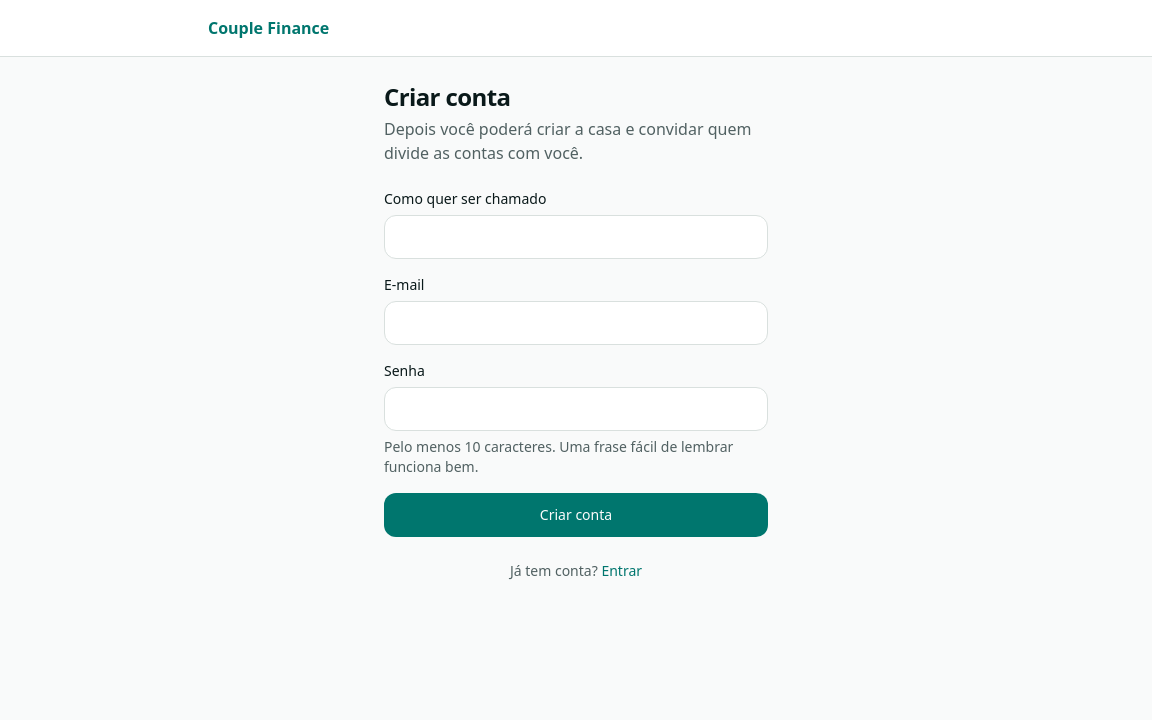
Test: authentication flow › maps registration conflicts and weak passwords to the right fields
The width and height of the screenshot is (1152, 720).
Type "Alex" into the field labelled "Como quer ser chamado" at (576, 237), box [384,215,768,259]
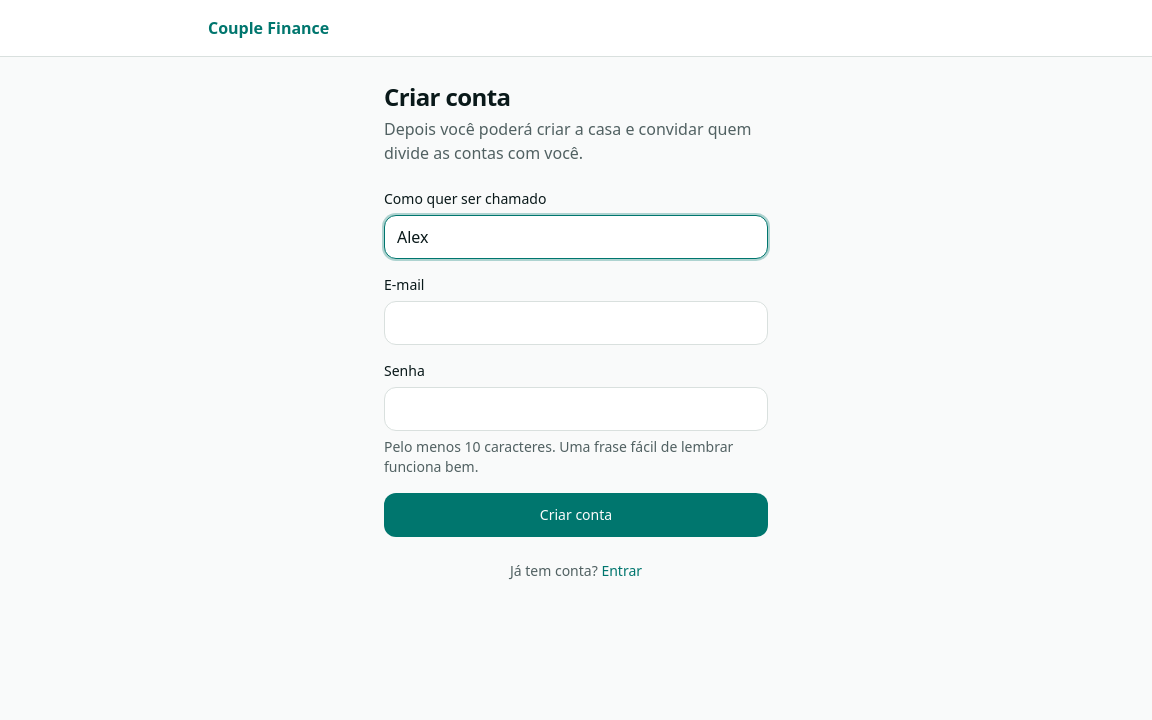
Type "alex@example.com" into the field labelled "E-mail" at (576, 323), box [384,301,768,345]
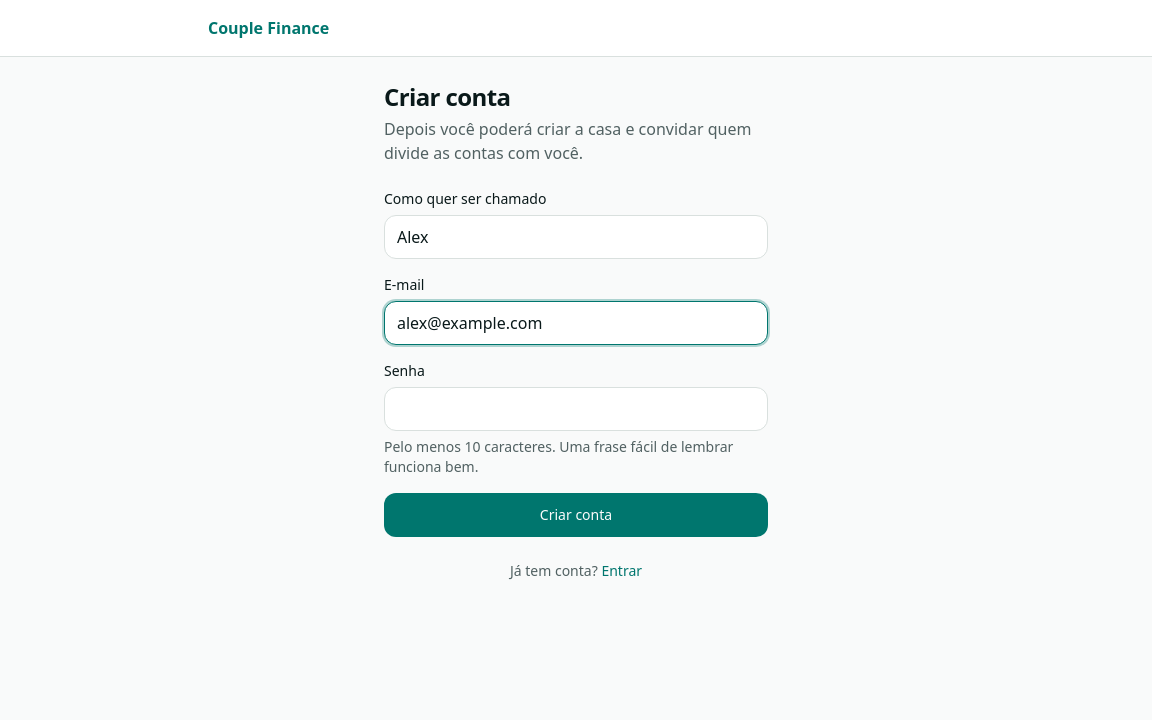
Type "Senha12345" into the password field labelled "Senha" at (576, 409), box [384,387,768,431]
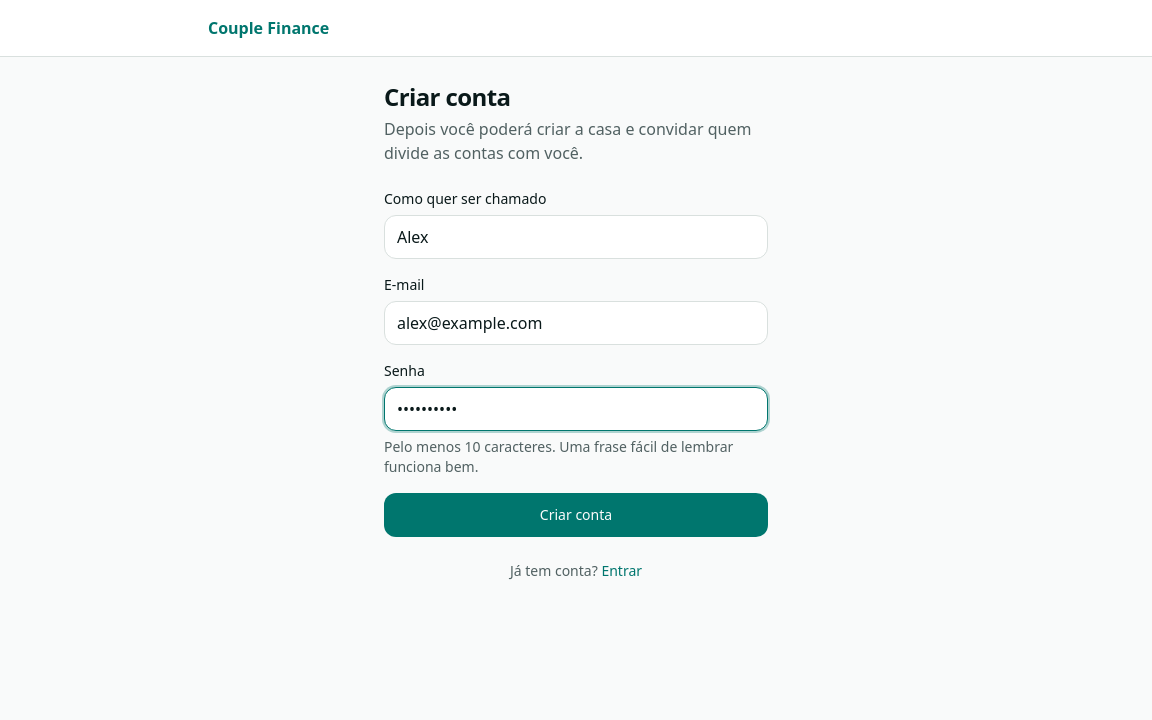
Click the button "Criar conta" at (576, 515), box [384,493,768,537]
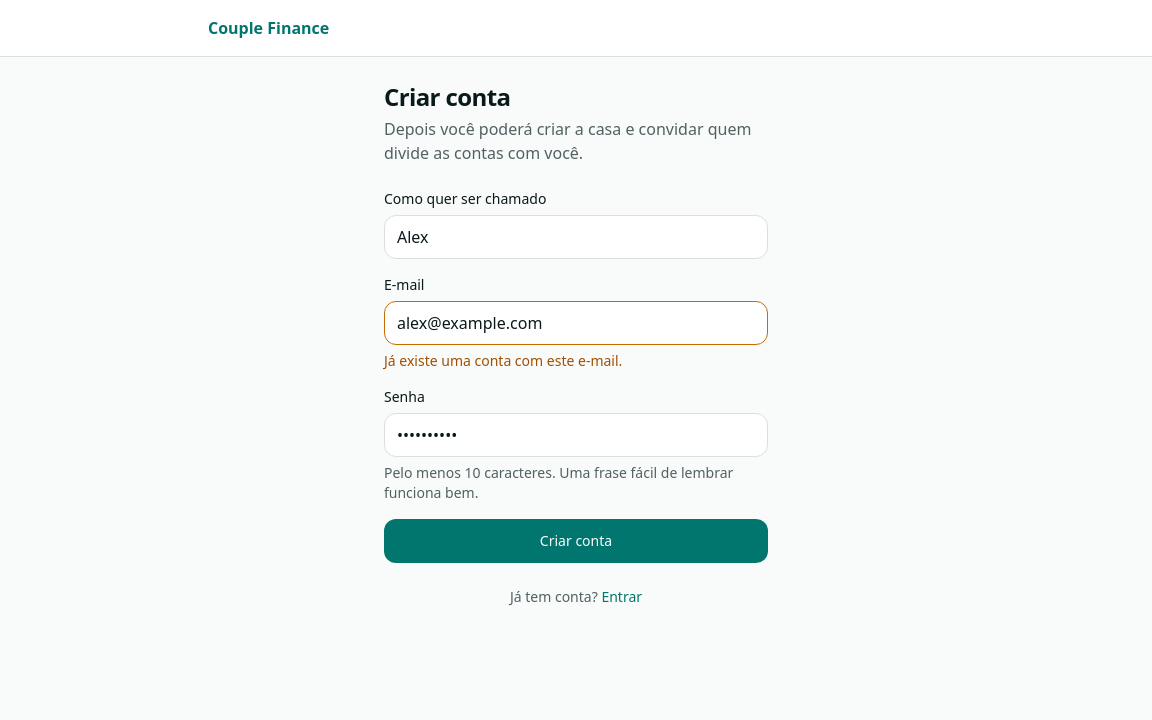
Check: the text "Já existe uma conta com este e-mail." is shown, box [384,351,622,370]
Click the button "Criar conta" at (576, 541), box [384,519,768,563]
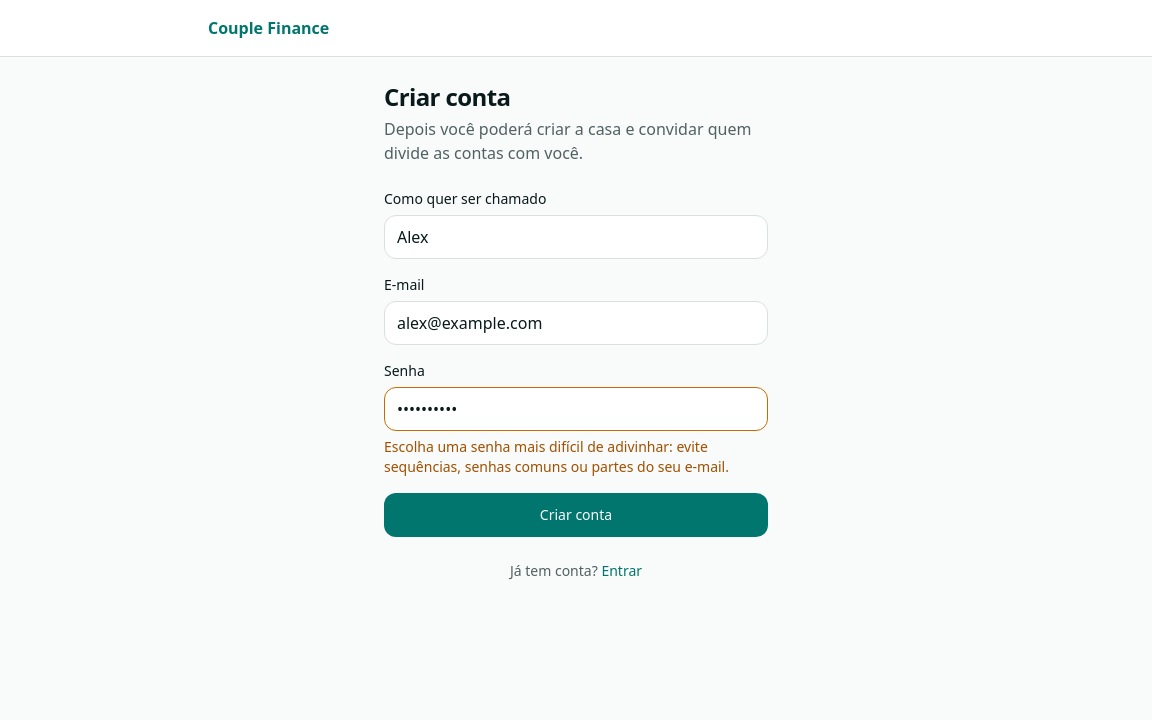
Check: the text "Escolha uma senha mais difícil" is shown, box [384,437,729,476]
